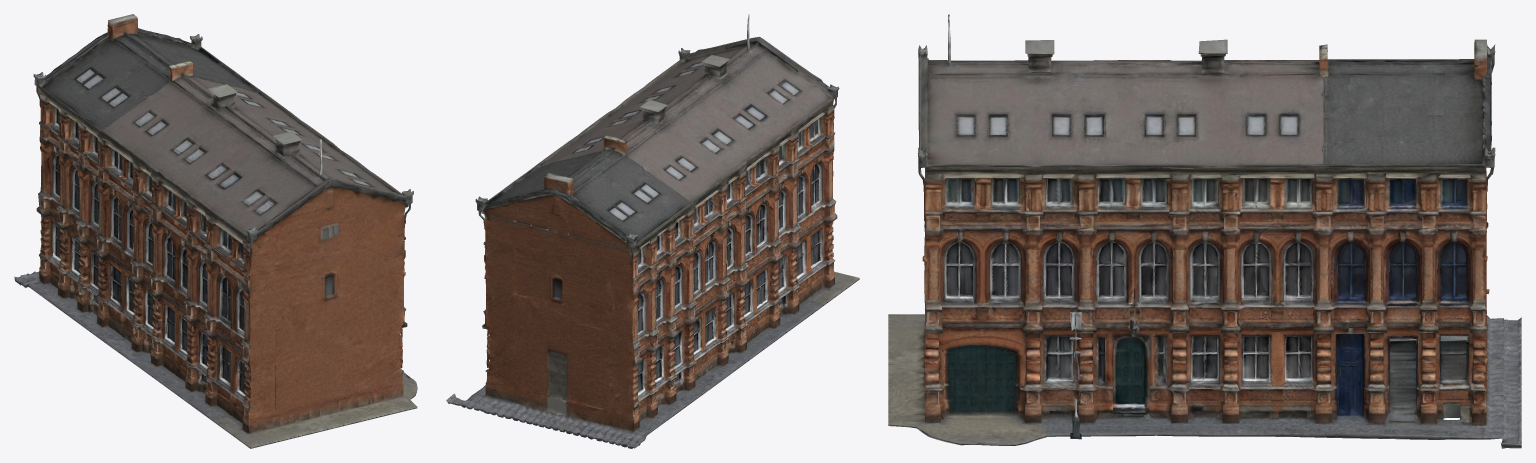
The model's file is tripo_convert_09aa92e6-5ad4-44ea-bd24-0cefdb93931b.fbx.
3 renders of one model, left to right at view 1: azimuth 30°, elevation 25°; view 2: azimuth 150°, elevation 25°; view 3: azimuth 270°, elevation 25°, orthographic. The views are drawn at different scales.
Visible parts, largest first — view 1: tripo_node_09aa92e6; view 2: tripo_node_09aa92e6; view 3: tripo_node_09aa92e6.
Boxes of the visible parts, box(x1,y1,x2,y2) form: tripo_node_09aa92e6: box(14, 14, 417, 448); tripo_node_09aa92e6: box(446, 14, 859, 448); tripo_node_09aa92e6: box(888, 14, 1521, 448).
Bounding box in the file's own units: 0.4794 × 0.6454 × 1.
